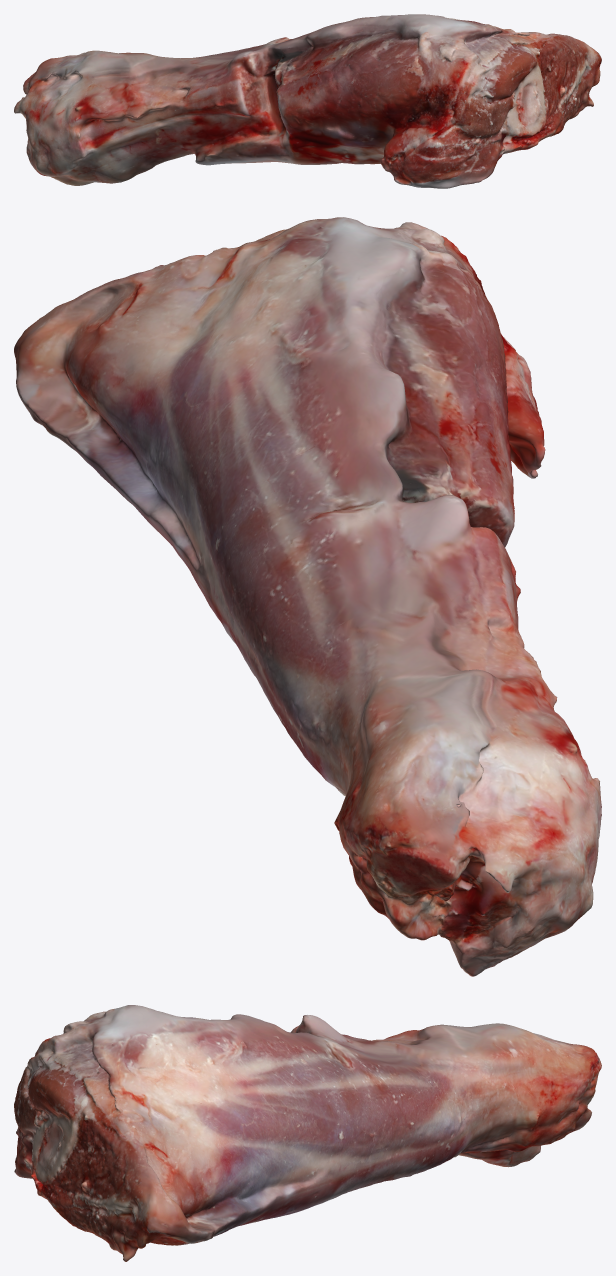
The model's file is lamb.glb.
3 views of the same model, one above another, from view 1: azimuth 30°, elevation 25°; view 2: azimuth 150°, elevation 25°; view 3: azimuth 270°, elevation 25° (orthographic). The views are drawn at different scales.
Parts seen in each view (by area): view 1: Object_2; view 2: Object_2; view 3: Object_2.
Boxes of the visible parts, bbox=[...] form: Object_2: bbox=[14, 14, 601, 188]; Object_2: bbox=[14, 217, 601, 976]; Object_2: bbox=[14, 1005, 601, 1261].
Bounding box in the file's own units: 0.9462 × 0.4655 × 0.8942.
1 material, 1 textured.
